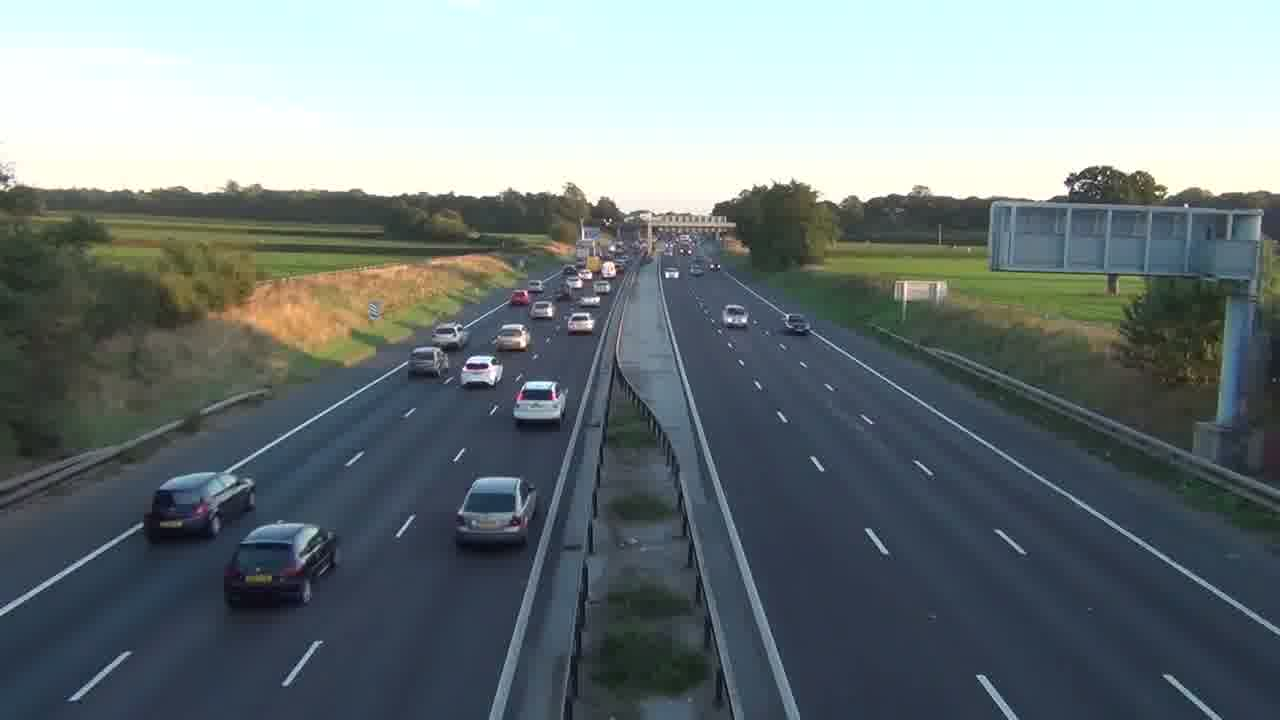car: (223, 521, 339, 607), (143, 470, 257, 542), (454, 475, 537, 549), (512, 379, 568, 424), (494, 323, 531, 352), (567, 311, 595, 335)
